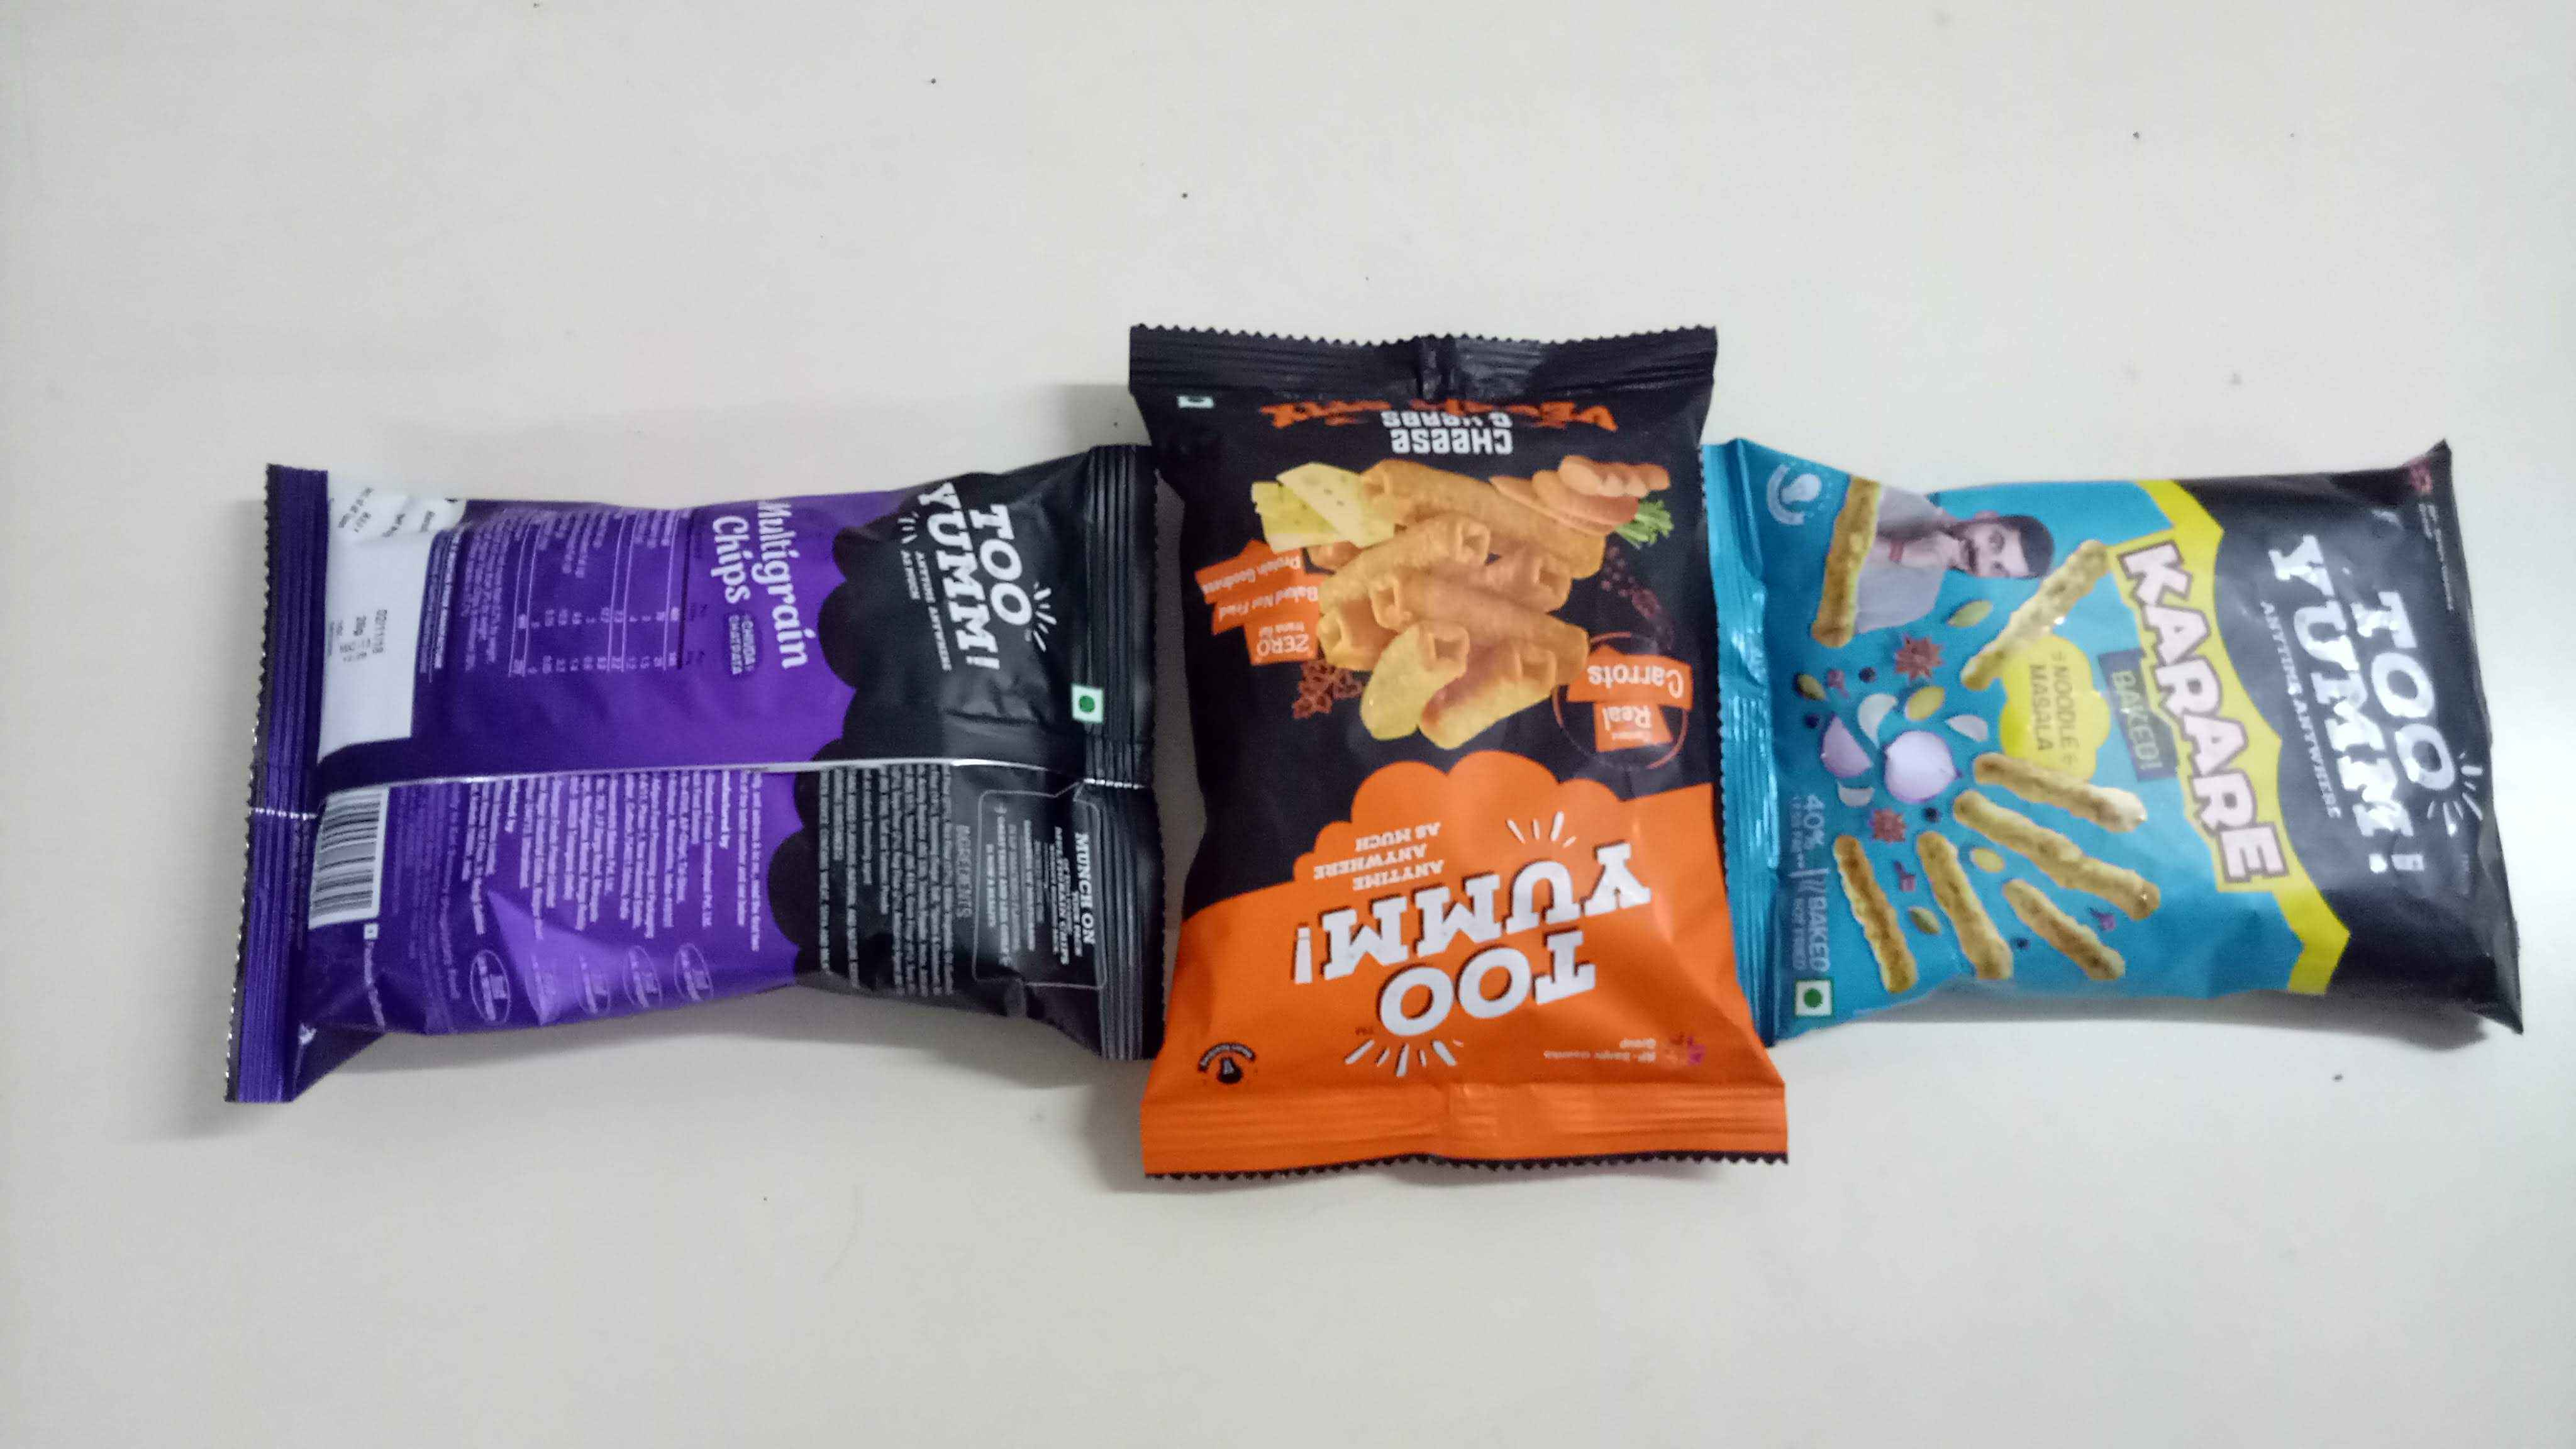tooyumm: (1270, 833, 1684, 1035), (2279, 499, 2480, 890), (911, 474, 1072, 697)
